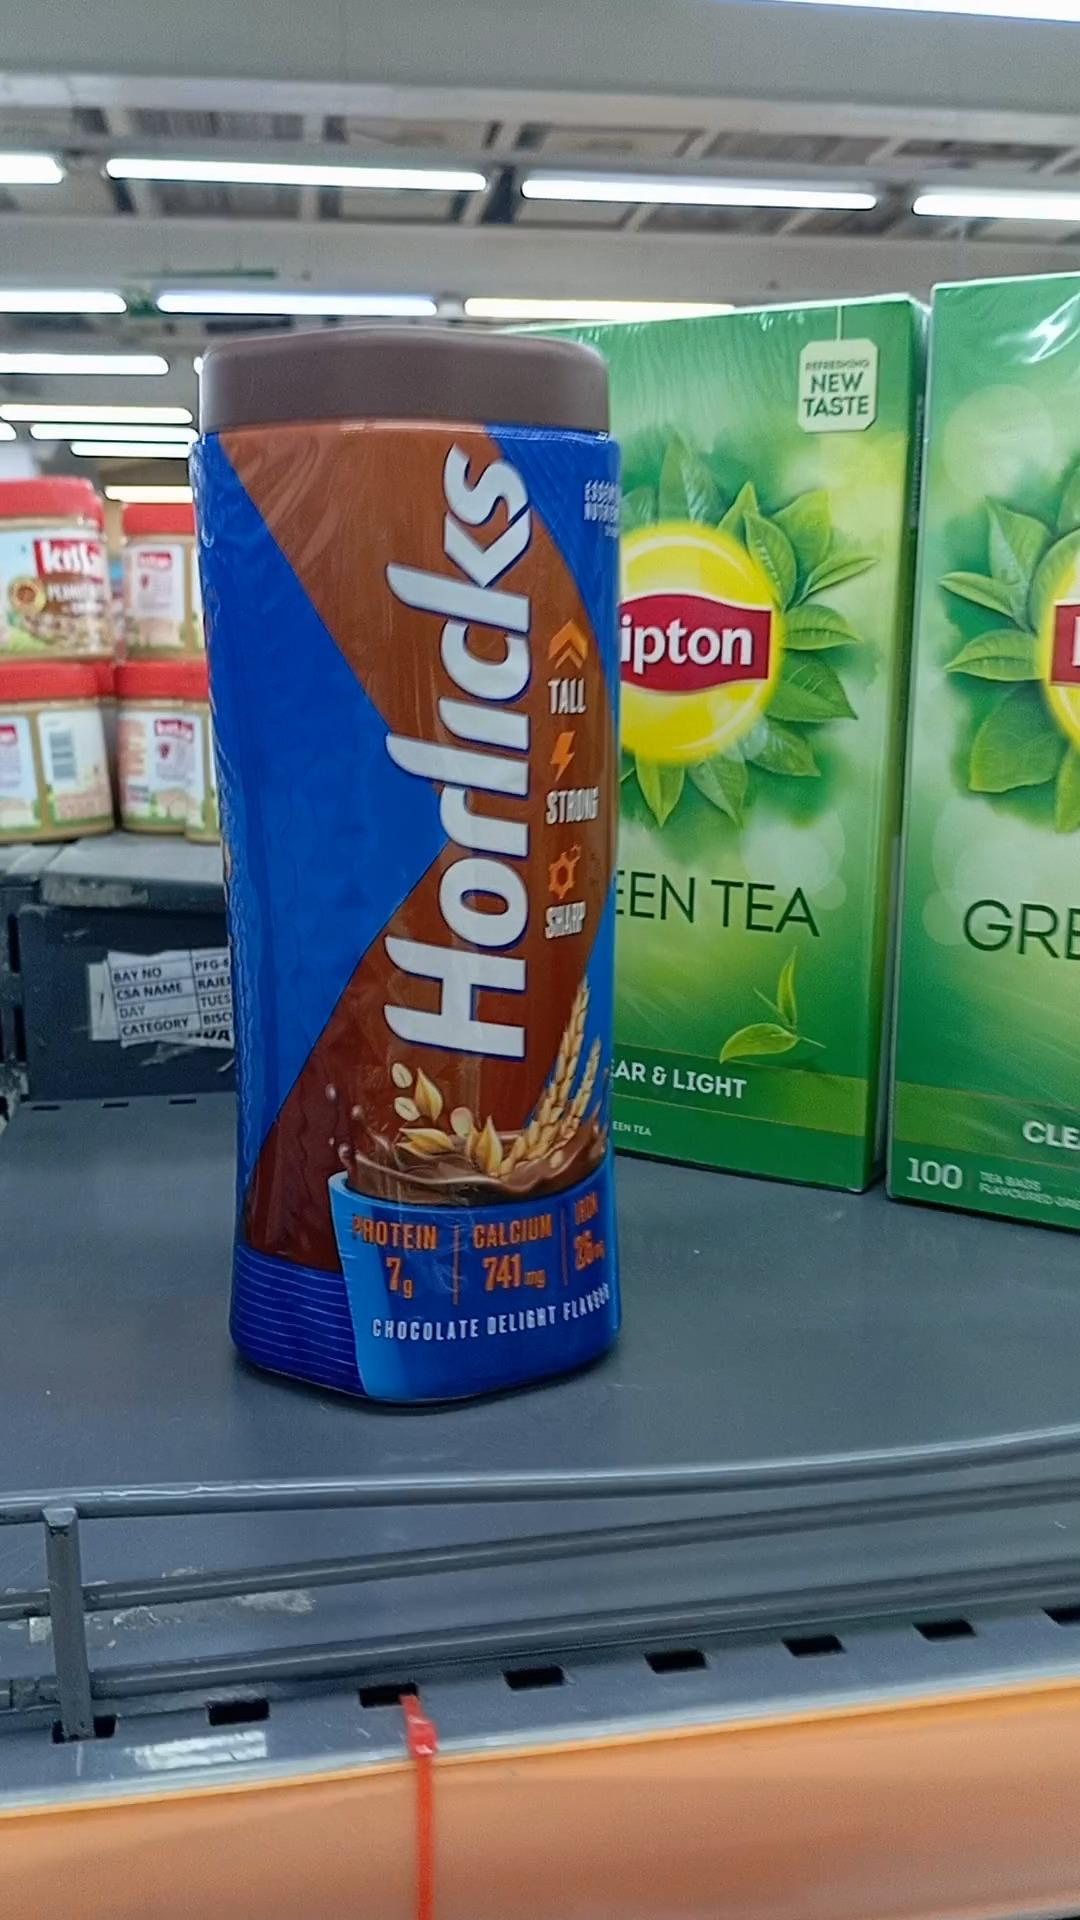HORLICK_CHOCOLATE_1_KG_JAR: (185, 330, 629, 1411)
